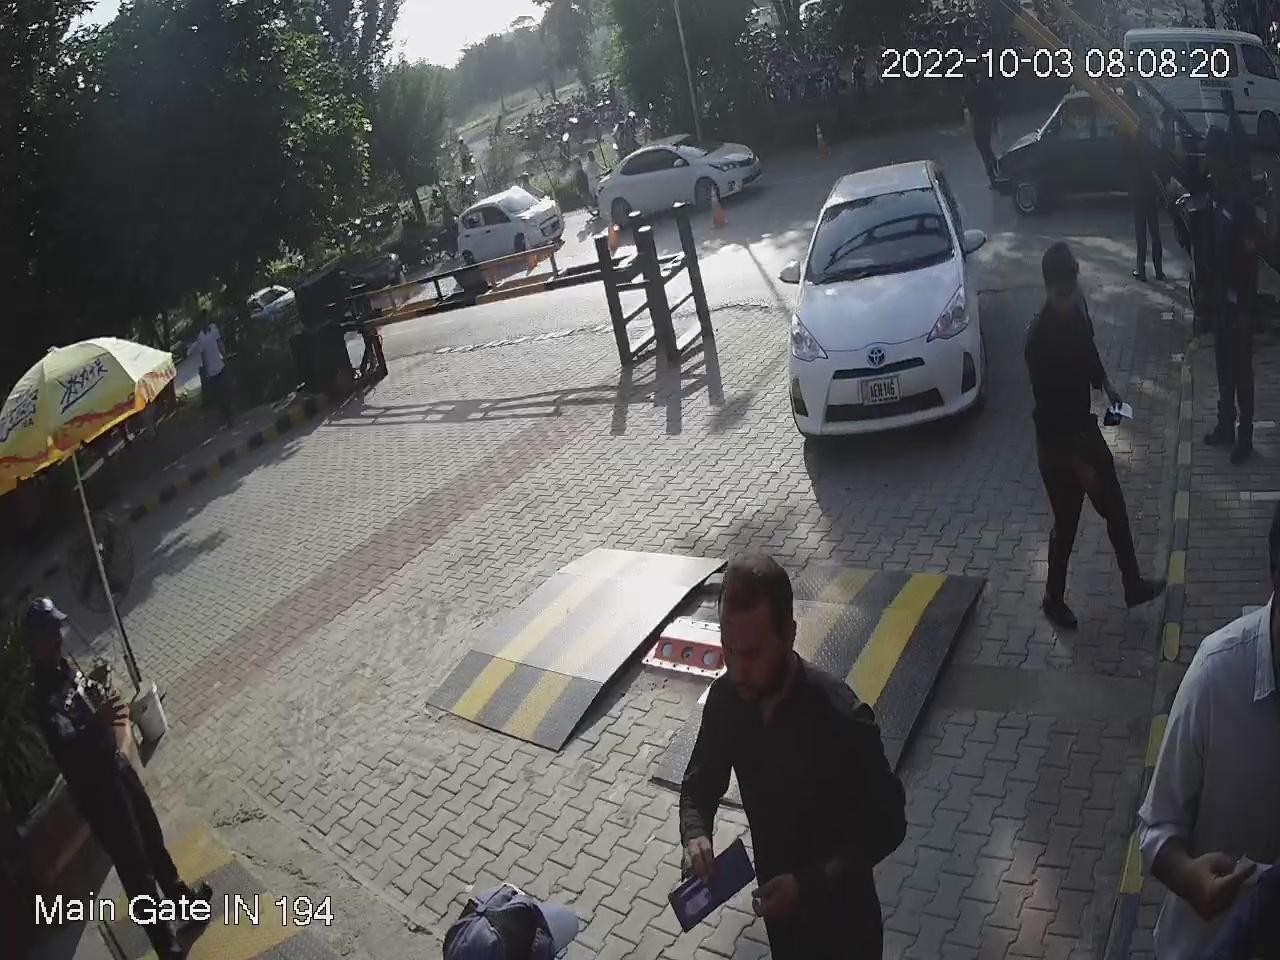windshield: (805, 177, 957, 277)
